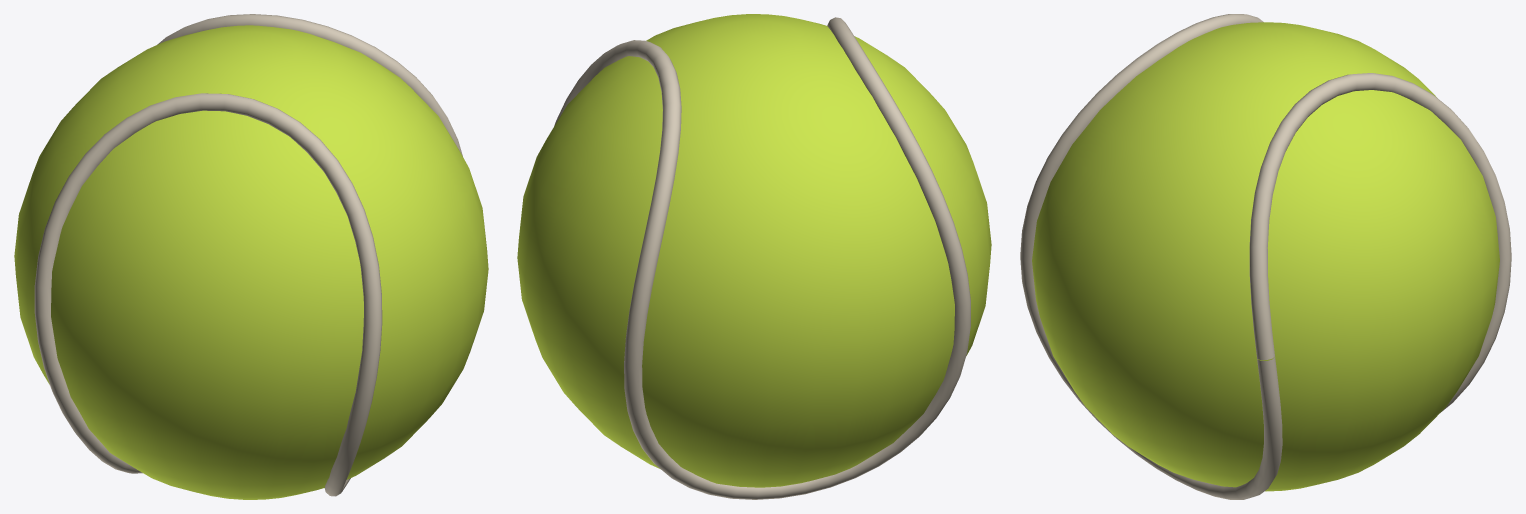
The model's file is ball.glb.
3 views of the same model, side by side, from view 1: azimuth 30°, elevation 25°; view 2: azimuth 150°, elevation 25°; view 3: azimuth 270°, elevation 25° (orthographic).
Parts seen in each view (by area): view 1: ball_ball, ball_seam; view 2: ball_ball, ball_seam; view 3: ball_ball, ball_seam.
Part boxes in pixels (box(x1,y1,x2,y2)): ball_ball: box(14, 25, 488, 499); ball_seam: box(34, 14, 462, 496); ball_ball: box(517, 14, 991, 487); ball_seam: box(554, 17, 970, 499); ball_ball: box(1032, 22, 1499, 491); ball_seam: box(1020, 14, 1511, 499).
Size of the model in its own units: 0.3139 by 0.3 by 0.3139.
